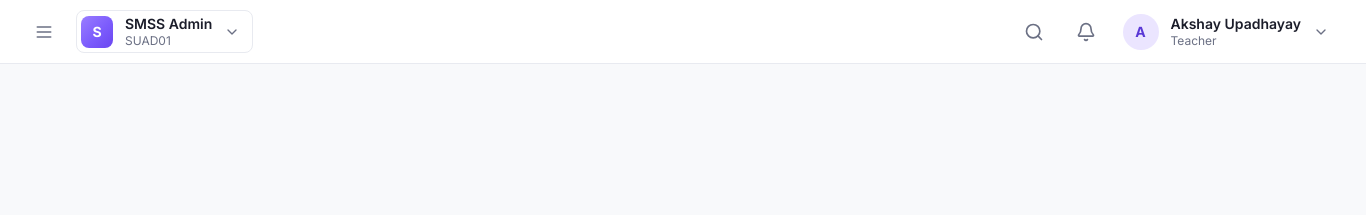
TopbarComponent notification bell › a user without a school (Super Admin) makes no notice requests at all
The image size is (1366, 215).
What coordinates should you click on to do the following:
click the button named "Notifications"
I would click on:
 (1086, 32)
Its box is 1066,12 -> 1106,52.
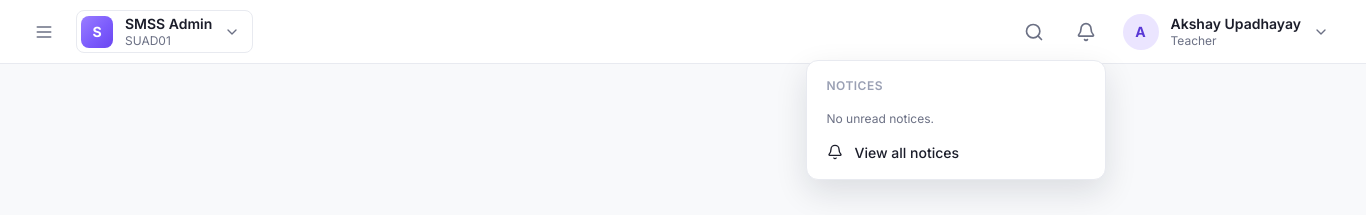
Expected: the text "No unread notices." is shown, 826,110 -> 934,126
